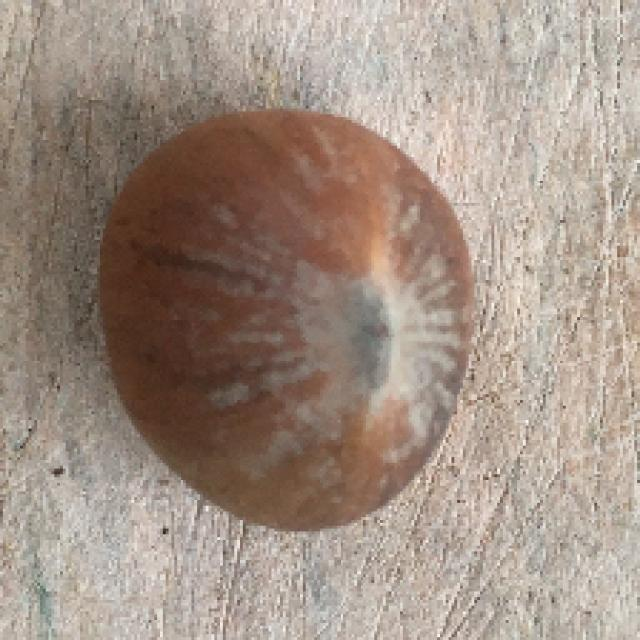qualityHazelnut: (92, 106, 484, 533)
